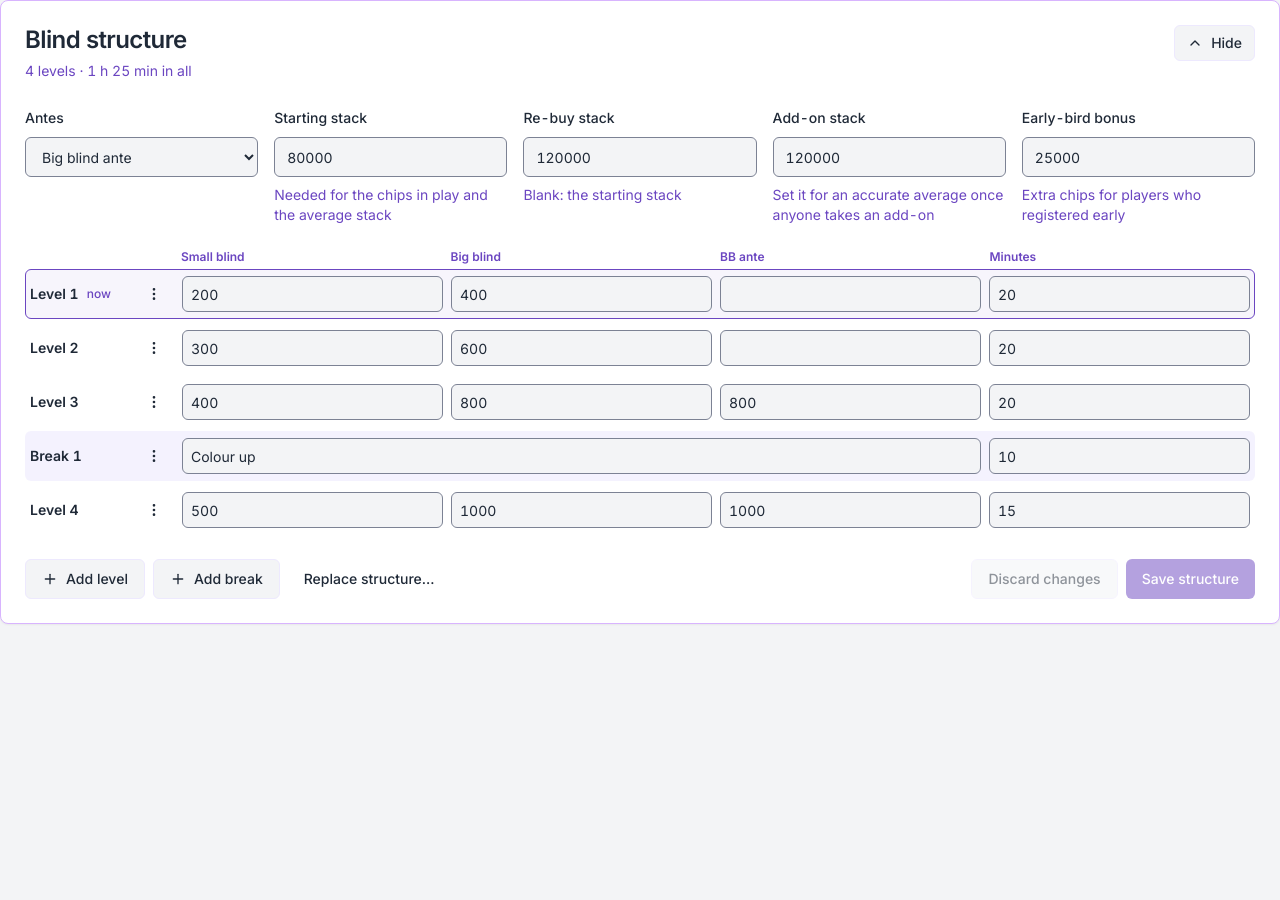
Test case: StructureEditor › puts a problem under its row and sends nothing
Replace the text in the field named "Level 1 big blind" with "100". click: x=582, y=294
box: [451, 276, 712, 312]
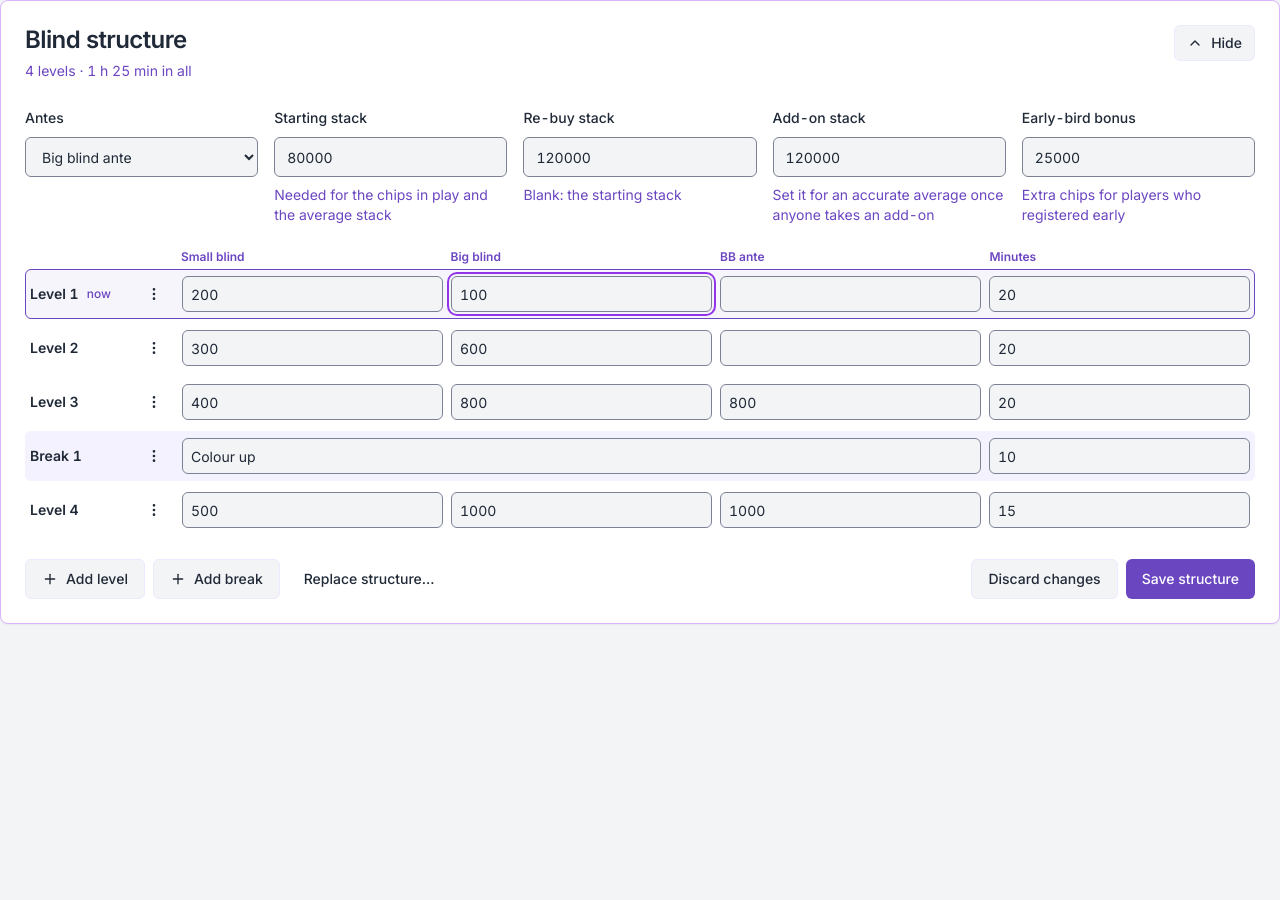
Click the button "Save structure". click: x=1190, y=579
box: [1126, 559, 1255, 599]
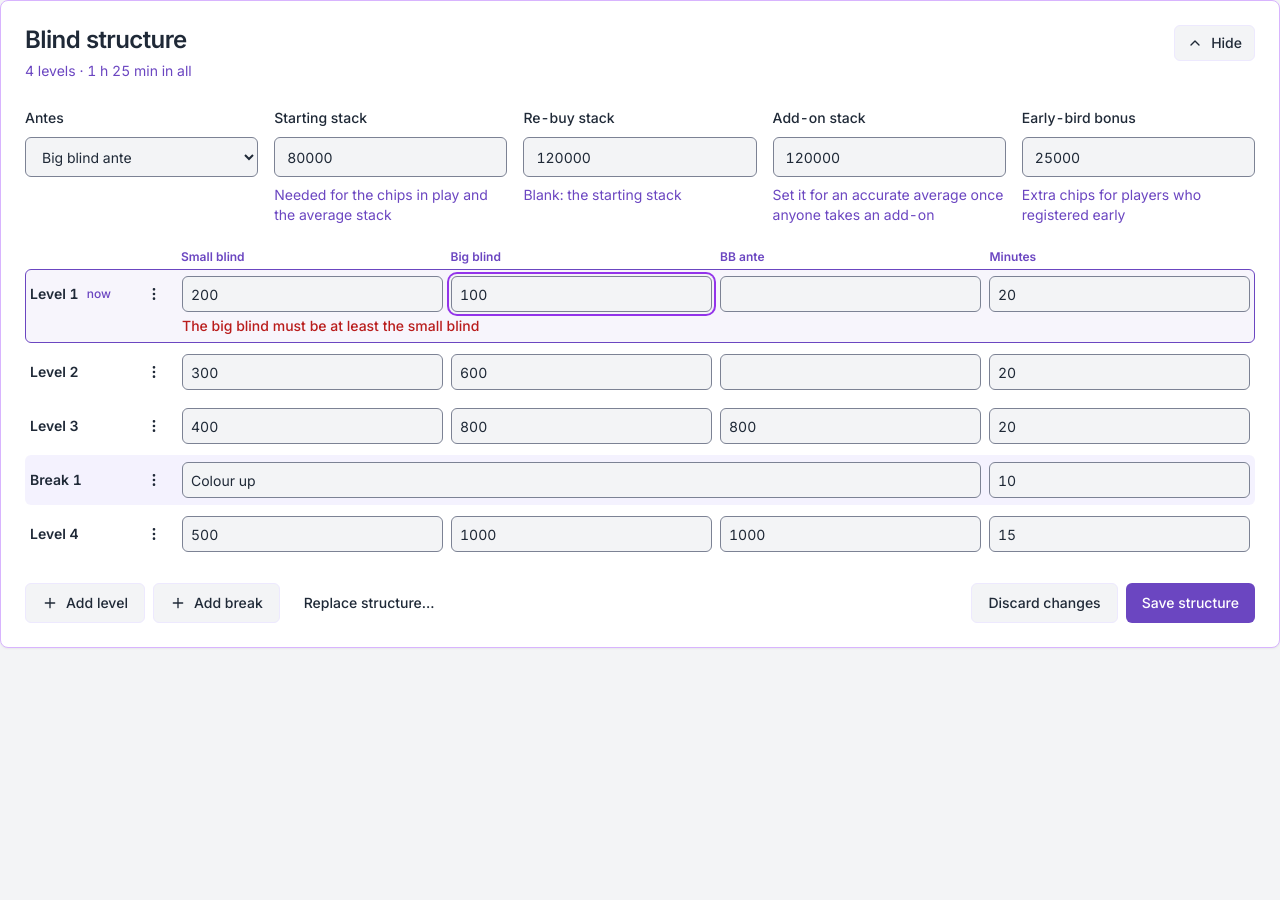
Check: the text "The big blind must be at least the small blind" is shown, box [182, 317, 479, 334]
